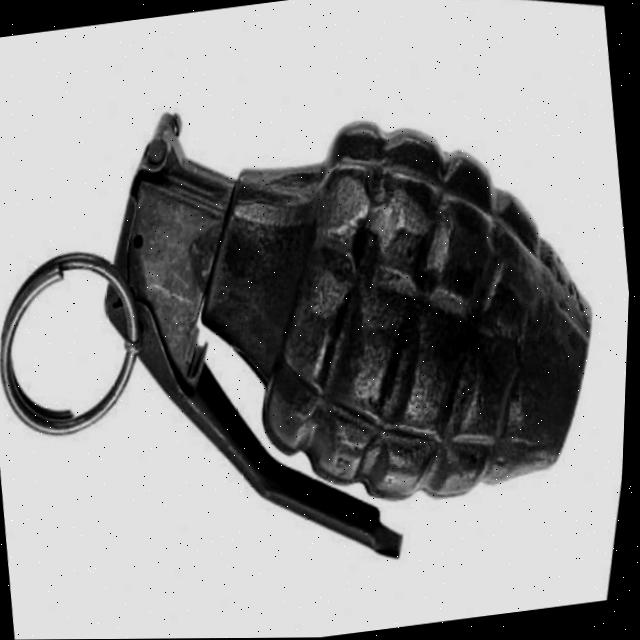grenade: (0, 28, 639, 640)
